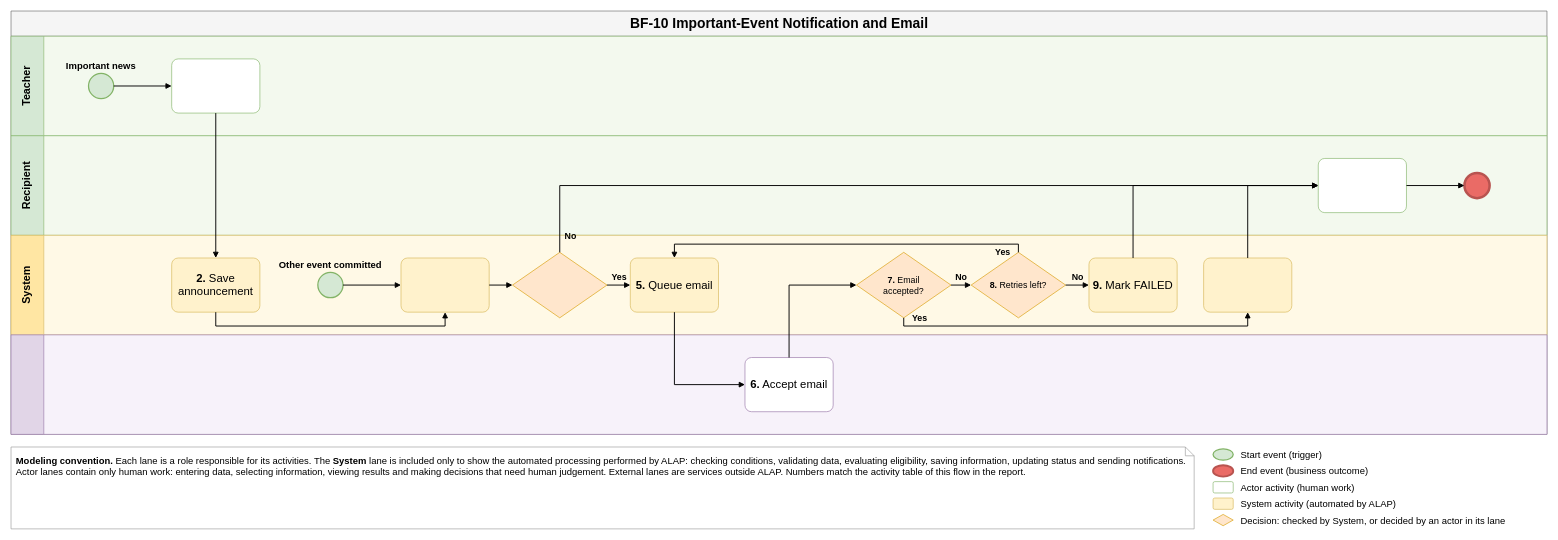
Some shapes in this 1558 by 540 pixel diagram are drawn without their labels. The box of each missing label's shape, as (x1, y1, x2, y2) in pixels:
1. Post important announcement: (171, 58, 260, 113)
10. Mark SENT: (1203, 257, 1292, 312)
11. Read notification: (1318, 158, 1406, 213)
3. Create in-app notifications: (400, 257, 489, 312)
4. Email needed?: (512, 252, 607, 318)
Email Provider: (10, 334, 1547, 434)
Recipient informed: (1463, 171, 1491, 199)
